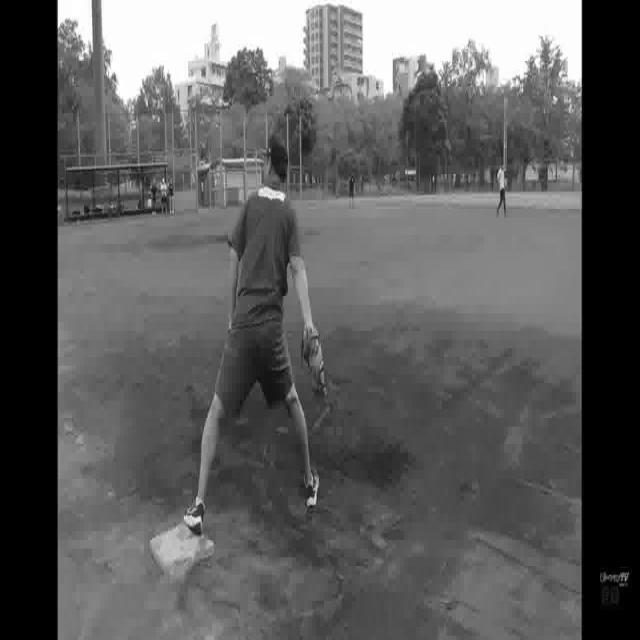base: (146, 521, 213, 584)
baseball_glove: (300, 320, 329, 407)
shoe: (184, 501, 207, 535), (304, 467, 320, 513)
